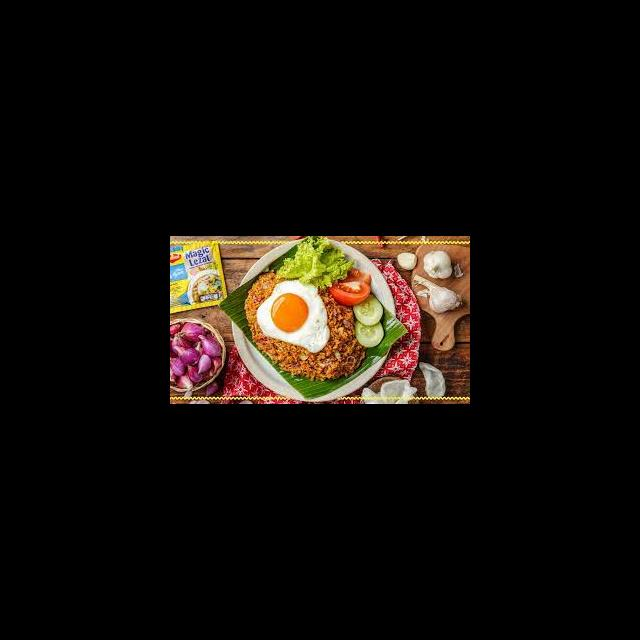food_waste: (250, 281, 375, 367)
